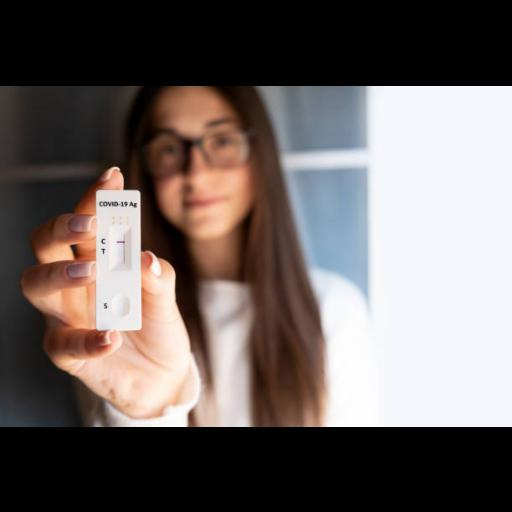Neg: (96, 189, 140, 327)
